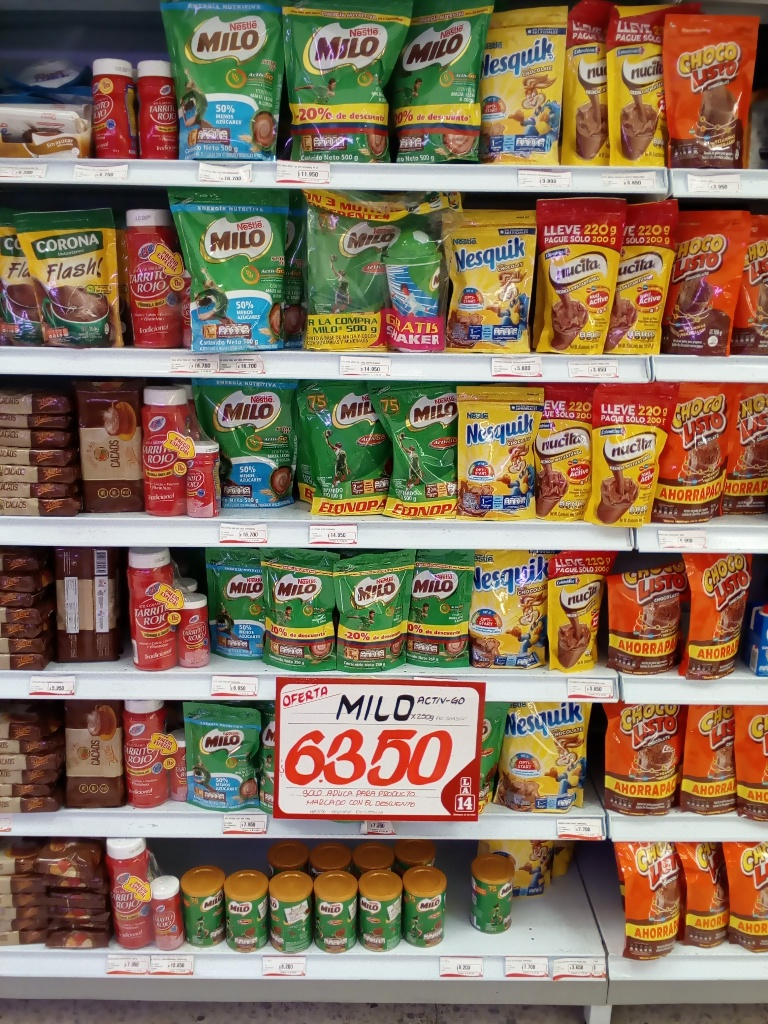COL0170103DYP44000: (720, 383, 768, 517)
COL0170203DYP25000: (410, 549, 470, 667)
COL0170203DYP50000: (398, 0, 491, 161)
COL0170203LAT20000: (467, 850, 520, 940)
COL0170205DYP20000: (188, 703, 265, 813)
COL0170205DYP50000: (204, 387, 296, 511)
COL0170303DYP20000: (456, 386, 540, 520)
